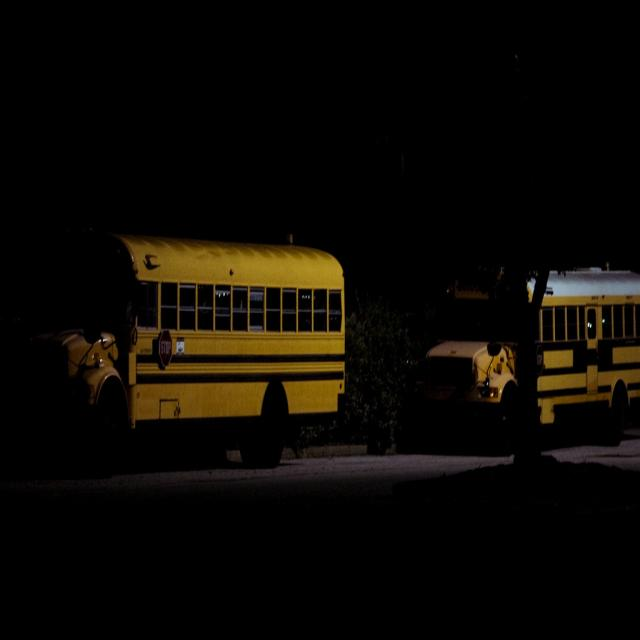Bus: (12, 223, 381, 540), (411, 224, 640, 486)
